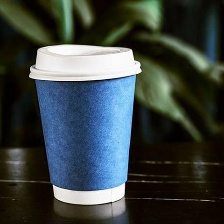paper_cup: (23, 40, 145, 208)
